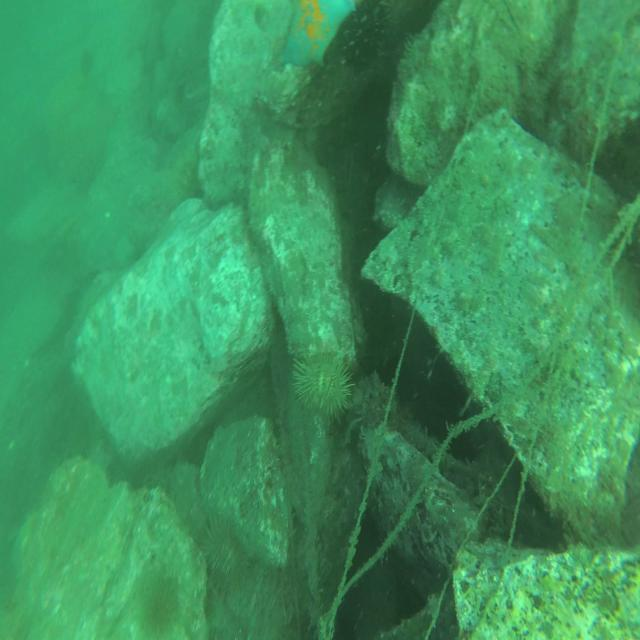echinus: (289, 344, 356, 422), (195, 510, 245, 593), (332, 0, 386, 66), (162, 145, 204, 208)
starfish: (276, 0, 368, 63)
